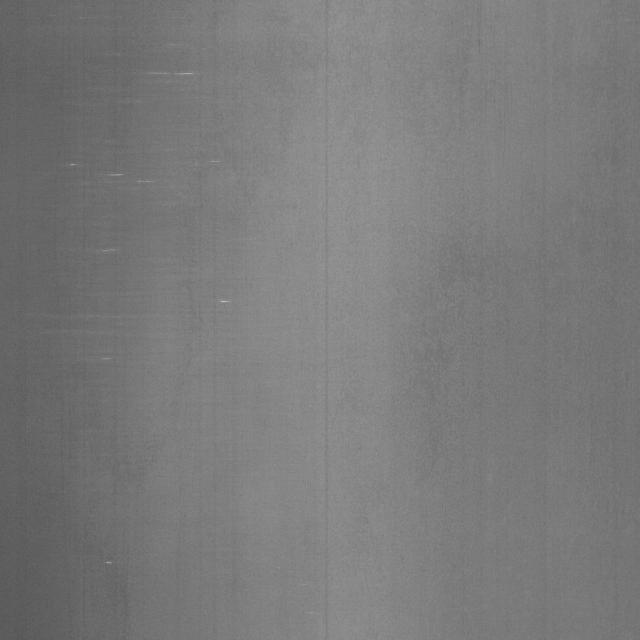punching_hole: (42, 59, 322, 464)
